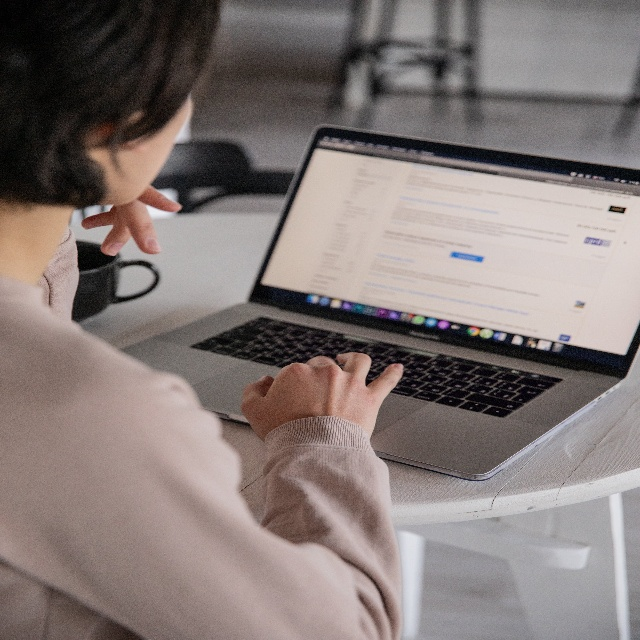Sin_guantes: (240, 343, 405, 448), (80, 183, 183, 257)
